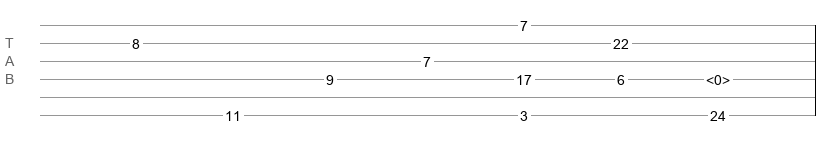11: (225, 108, 241, 118)
17: (516, 72, 532, 82)
22: (613, 36, 629, 46)
24: (710, 108, 726, 118)
3: (520, 108, 528, 118)
6: (617, 72, 625, 82)
7: (423, 54, 431, 64), (520, 18, 528, 28)
8: (132, 36, 140, 46)
9: (326, 72, 334, 82)
harmonic: (706, 72, 730, 82)
